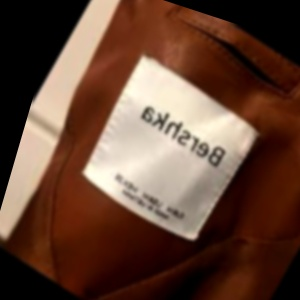bershka: (183, 64, 300, 184)
